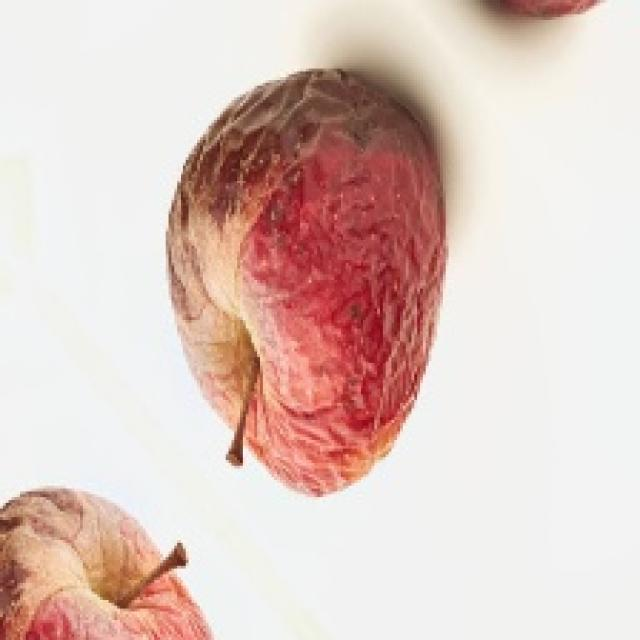rotten_apple: (168, 71, 447, 494), (2, 487, 206, 640)
